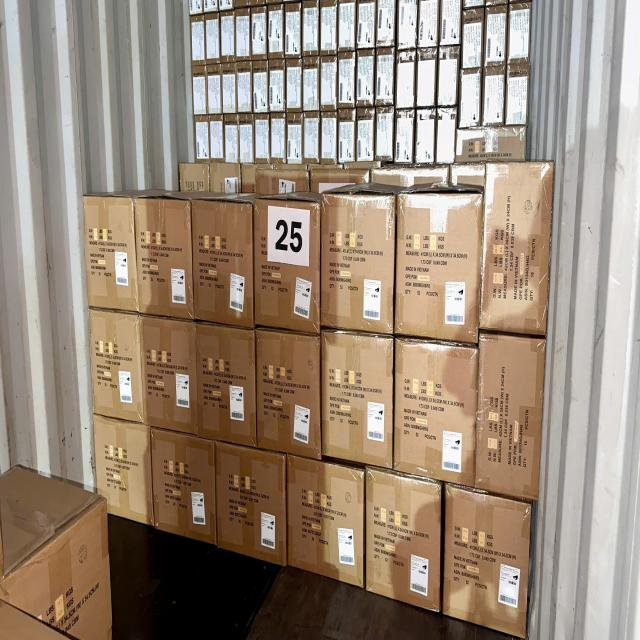Carton: (445, 481, 531, 639), (396, 192, 478, 347), (394, 334, 476, 488), (479, 164, 553, 330), (478, 330, 542, 502), (366, 468, 440, 614), (320, 192, 394, 333), (287, 454, 363, 591), (321, 331, 394, 471), (255, 199, 321, 336), (216, 441, 286, 570), (255, 327, 321, 461), (149, 426, 216, 551), (191, 197, 254, 328), (133, 196, 195, 322), (196, 322, 256, 446), (140, 312, 198, 435), (93, 415, 155, 530), (82, 194, 138, 316), (90, 306, 144, 426)
